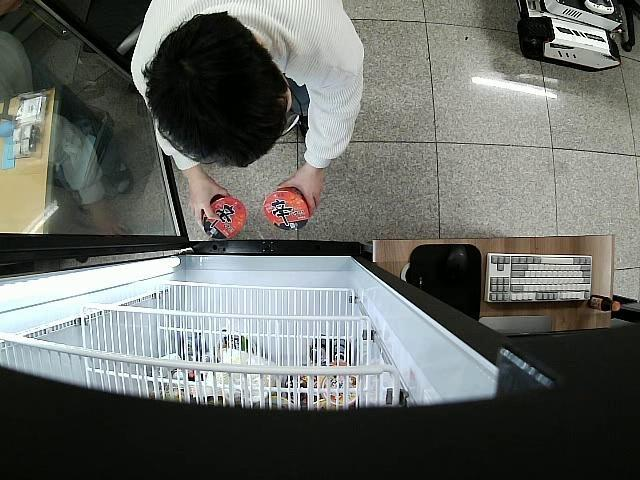01_ShinRamen_L: (199, 194, 248, 243), (260, 188, 310, 232)
